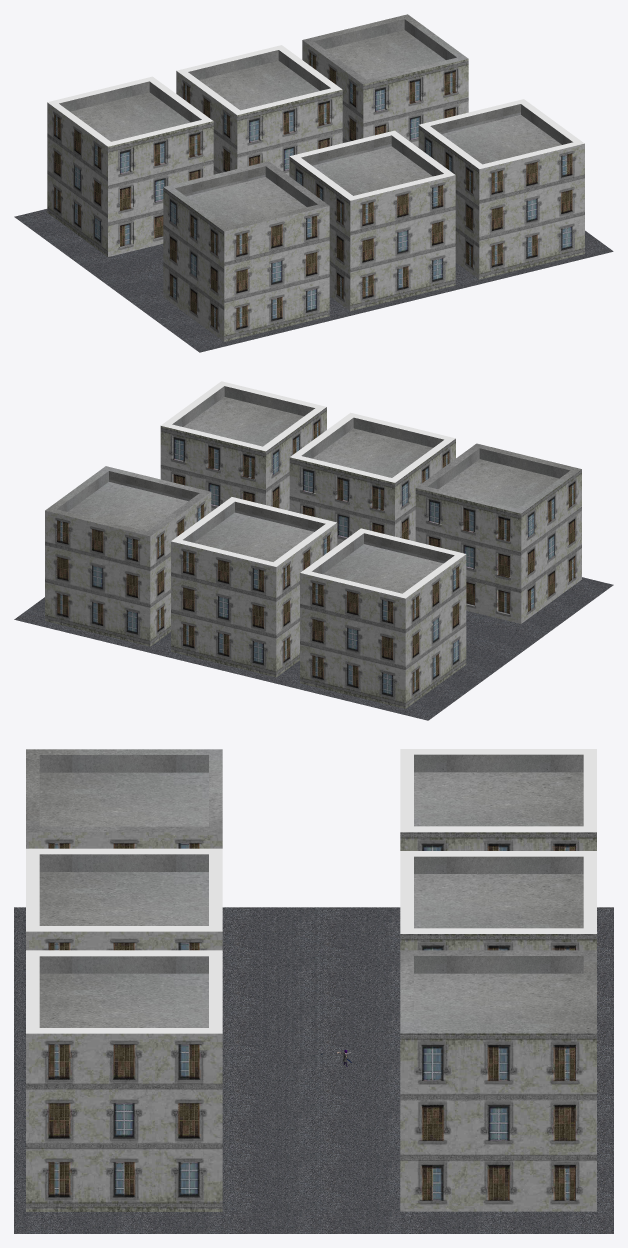
Rendered from city-street.obj.
The picture shows the model from 3 angles, top to bottom: view 1: azimuth 30°, elevation 25°; view 2: azimuth 150°, elevation 25°; view 3: azimuth 270°, elevation 25°; orthographic projection. The views are drawn at different scales.
Parts seen in each view (by area): view 1: City; view 2: City; view 3: City.
Part boxes in pixels (x1=…): City: x1=14, y1=14, x2=613, y2=352; City: x1=14, y1=381, x2=613, y2=720; City: x1=14, y1=749, x2=613, y2=1233.
Size of the model in its own units: 46.62 by 13.75 by 36.18.
Materials: 23 (3 with a texture image).
